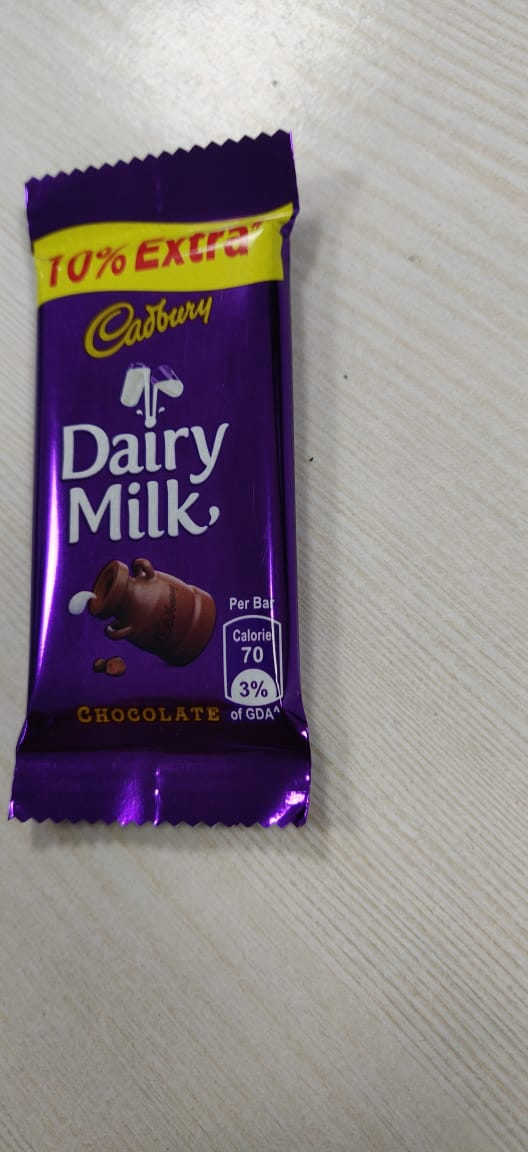dairy milk: (15, 116, 340, 886)
